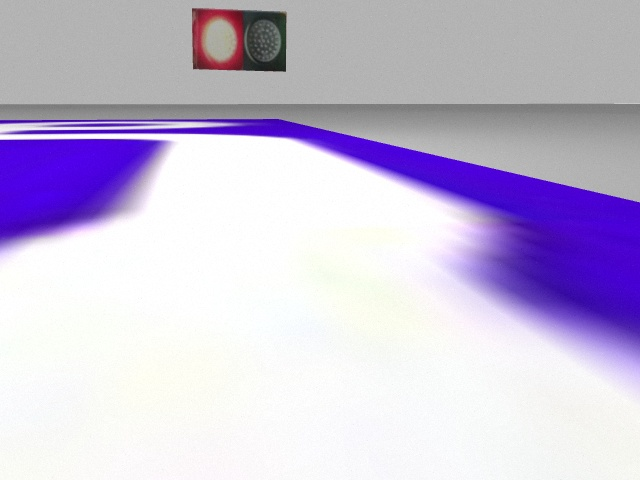red: (193, 8, 245, 69)
